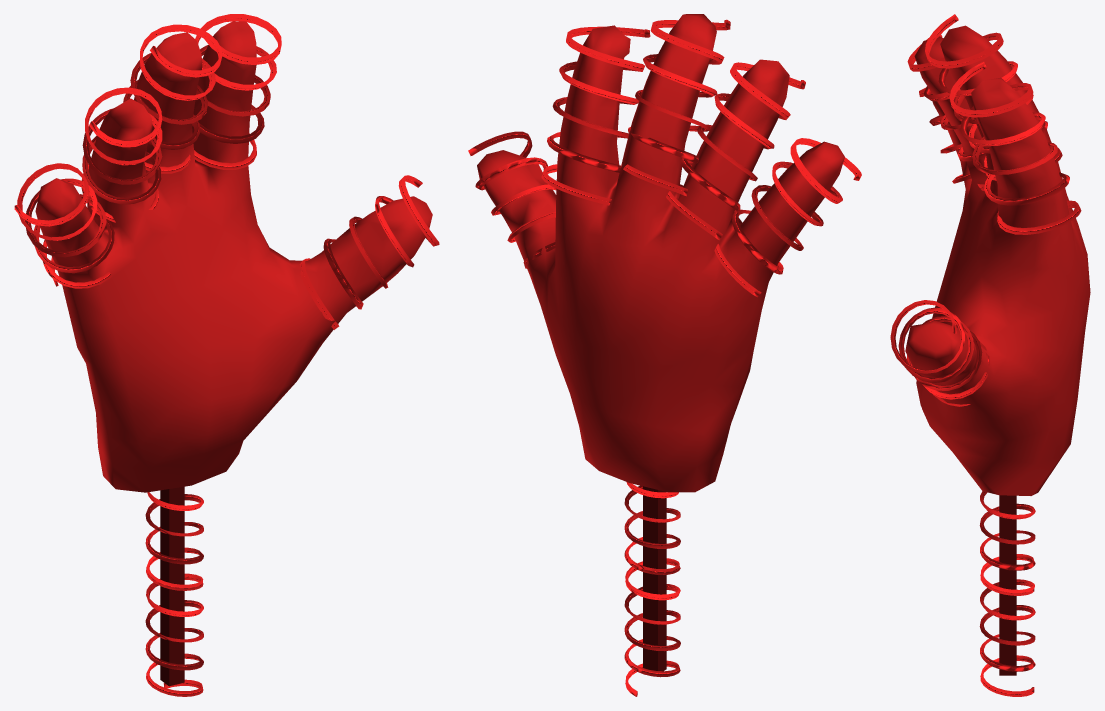
Rendered from Slap_1.obj.
3 views of the same model, side by side, from view 1: azimuth 30°, elevation 25°; view 2: azimuth 150°, elevation 25°; view 3: azimuth 270°, elevation 25° (orthographic). The views are drawn at different scales.
Visible parts, largest first — view 1: Hand1, Coilmesh1, Handle1, Coilmesh2, Coilmesh4, Coilmesh3, Coilmesh6, Coilmesh5, Coilmesh7; view 2: Hand1, Coilmesh4, Handle1, Coilmesh1, Coilmesh3, Coilmesh2, Coilmesh5, Coilmesh6, Coilmesh7; view 3: Hand1, Coilmesh4, Coilmesh6, Handle1, Coilmesh5, Coilmesh3, Coilmesh7, Coilmesh2, Coilmesh1.
Boxes of the visible parts, x1,y1,x2,y2 form: Hand1: [35, 21, 432, 492]; Coilmesh1: [14, 163, 114, 288]; Handle1: [160, 486, 184, 686]; Coilmesh2: [81, 87, 162, 222]; Coilmesh4: [192, 14, 281, 169]; Coilmesh3: [123, 24, 222, 173]; Coilmesh6: [299, 175, 439, 329]; Coilmesh5: [145, 552, 203, 696]; Coilmesh7: [145, 492, 203, 590]; Hand1: [477, 14, 844, 492]; Coilmesh4: [541, 26, 650, 205]; Handle1: [643, 486, 666, 671]; Coilmesh1: [714, 138, 861, 297]; Coilmesh3: [621, 19, 730, 196]; Coilmesh2: [666, 62, 805, 240]; Coilmesh5: [624, 558, 680, 696]; Coilmesh6: [468, 131, 556, 268]; Coilmesh7: [624, 482, 680, 594]; Hand1: [905, 25, 1090, 495]; Coilmesh4: [949, 61, 1081, 234]; Coilmesh6: [890, 300, 989, 406]; Handle1: [999, 495, 1016, 675]; Coilmesh5: [979, 554, 1035, 696]; Coilmesh3: [925, 14, 1062, 180]; Coilmesh7: [979, 491, 1035, 595]; Coilmesh2: [907, 35, 986, 190]; Coilmesh1: [919, 87, 971, 183].
Bounding box in the file's own units: 2.62 × 4.23 × 1.17.
